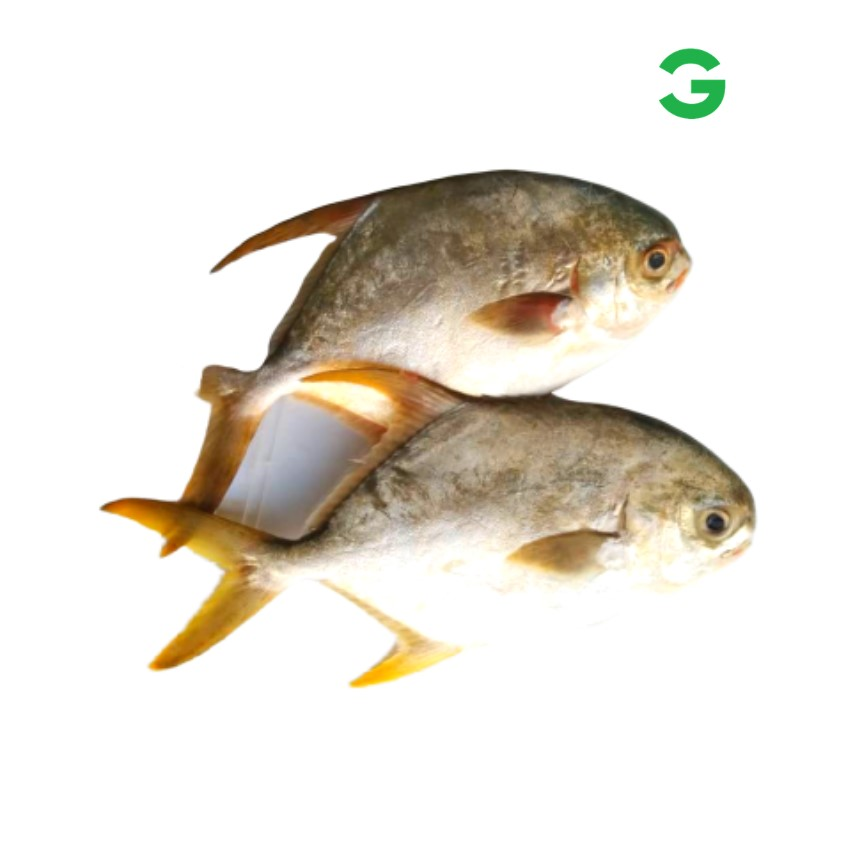Ikan Bawal: (96, 392, 791, 704), (132, 163, 779, 441)
